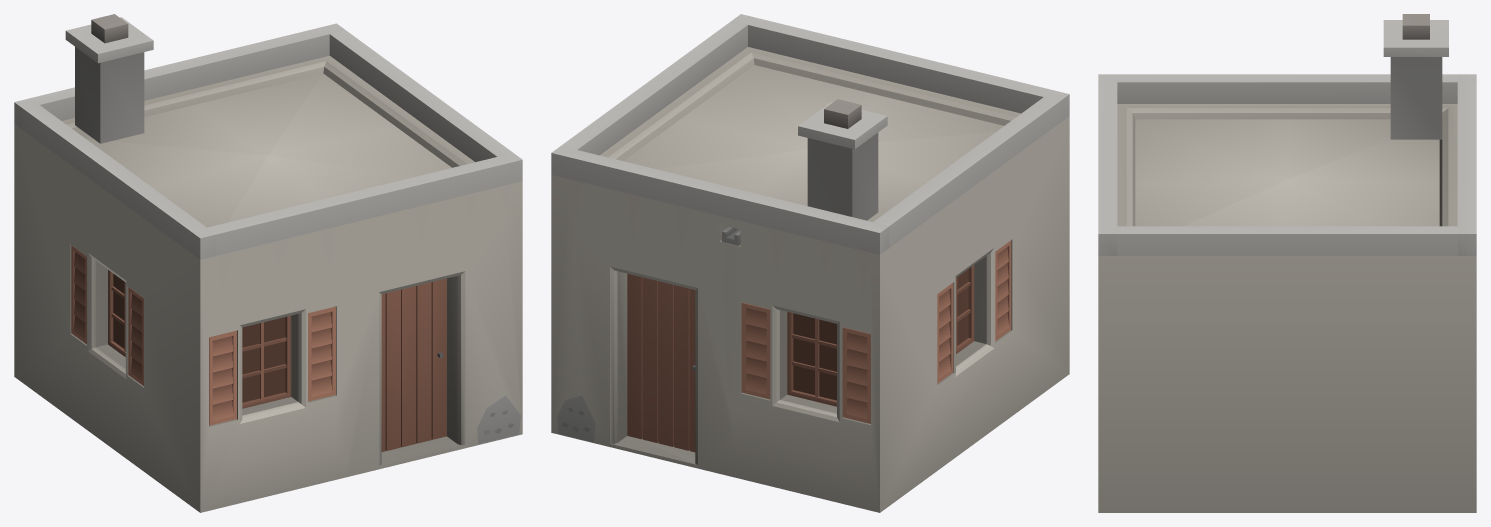
The picture shows the model from 3 angles, left to right: view 1: azimuth 30°, elevation 25°; view 2: azimuth 150°, elevation 25°; view 3: azimuth 270°, elevation 25°; orthographic projection.
Parts seen in each view (by area): view 1: cube1c; view 2: cube1c; view 3: cube1c.
Part boxes in pixels (left/top/right/bottom): cube1c: left=14, top=14, right=522, bottom=512; cube1c: left=551, top=14, right=1069, bottom=512; cube1c: left=1098, top=14, right=1476, bottom=512.
Size of the model in its own units: 4.4 by 4.7 by 4.4.
